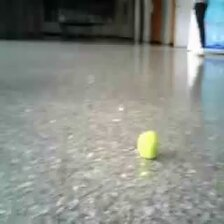tennis: (137, 129, 159, 160)
